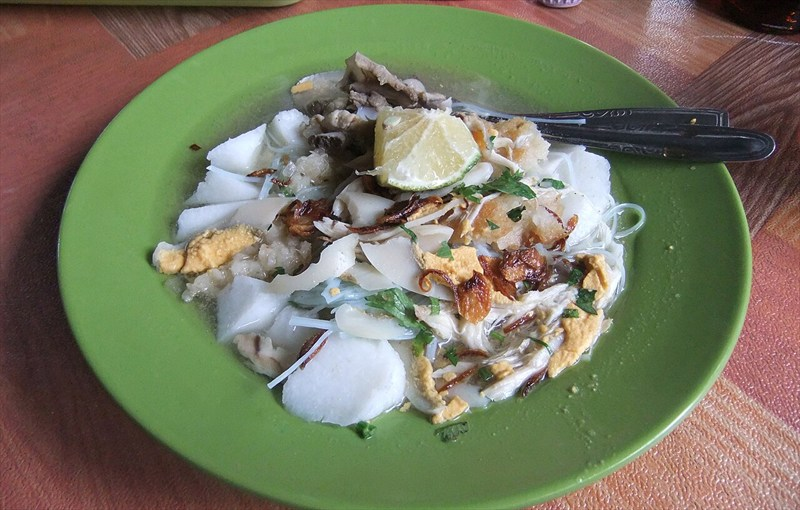Soto Ayam: (177, 101, 643, 417)
